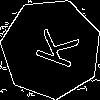K: (26, 23, 80, 70)
